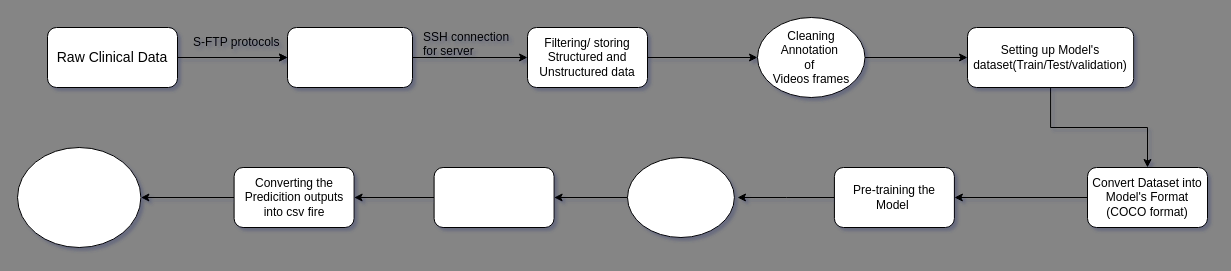
This 1231x271 diagram has some shape labels left out. Each missing label, with the centre of its shape:
Evaluating the model on Test data/ sample video data: the point at 493,197
Exploring Insights using SQL server and tableau: the point at 78,197
Private Cloud server UTSA: the point at 349,57
Tuning the model for Better Fitting on training data: the point at 680,197
